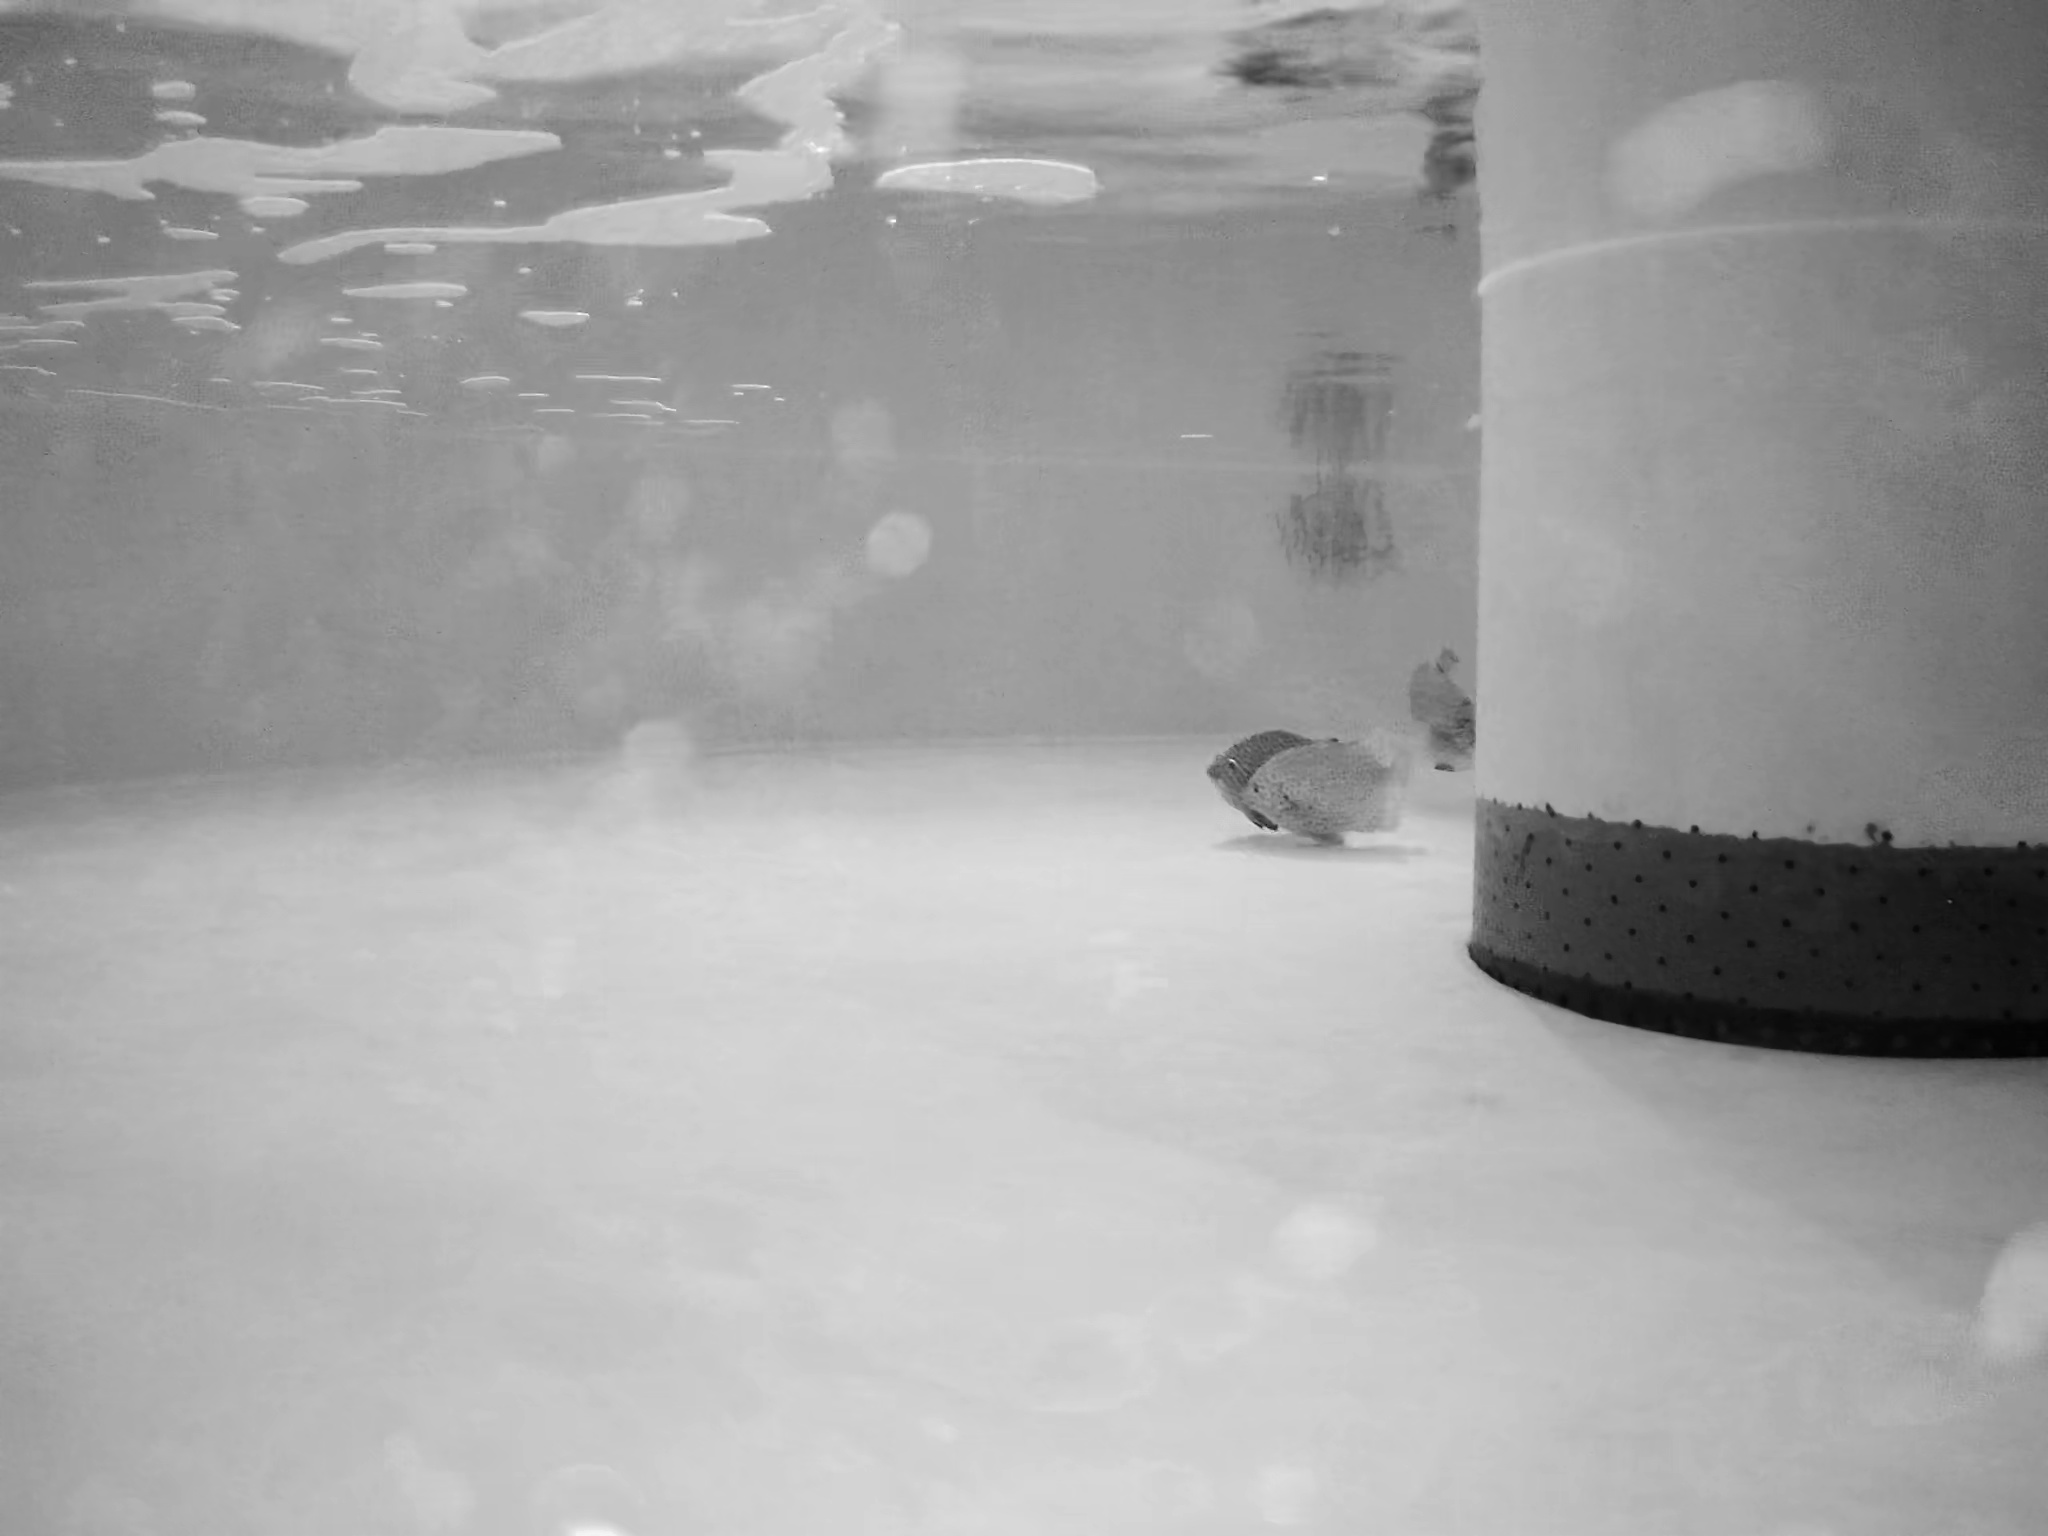fish: (1242, 731, 1408, 852), (1203, 728, 1345, 829), (1413, 641, 1482, 770)
